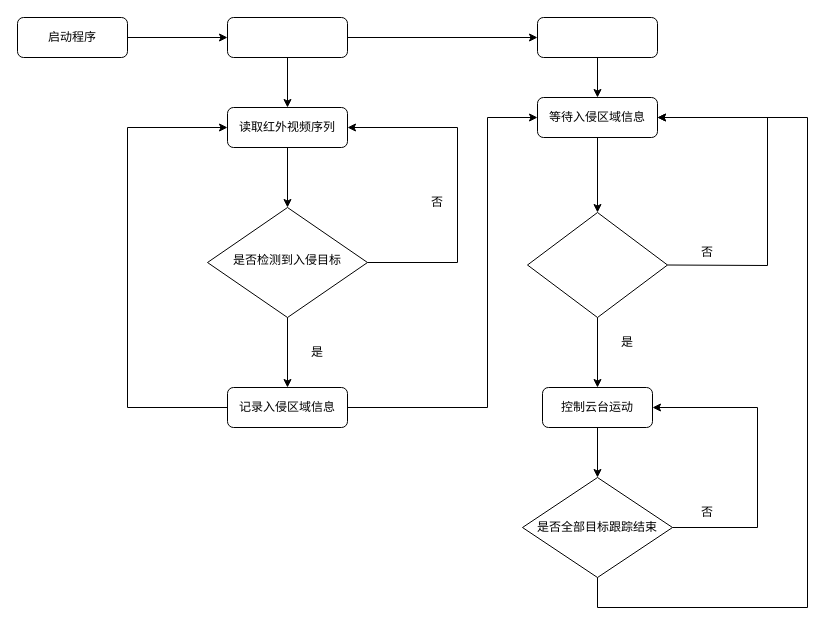
The diagram is 833 pixels wide and 633 high, and some of its shapes have lost their labels. The centre of each missing label's shape, as x and y in pixels:
"打开云台跟踪线程" goes at point (597, 37).
"打开红外检测线程" goes at point (287, 37).
"是否收到入侵区域信息" goes at point (597, 265).
